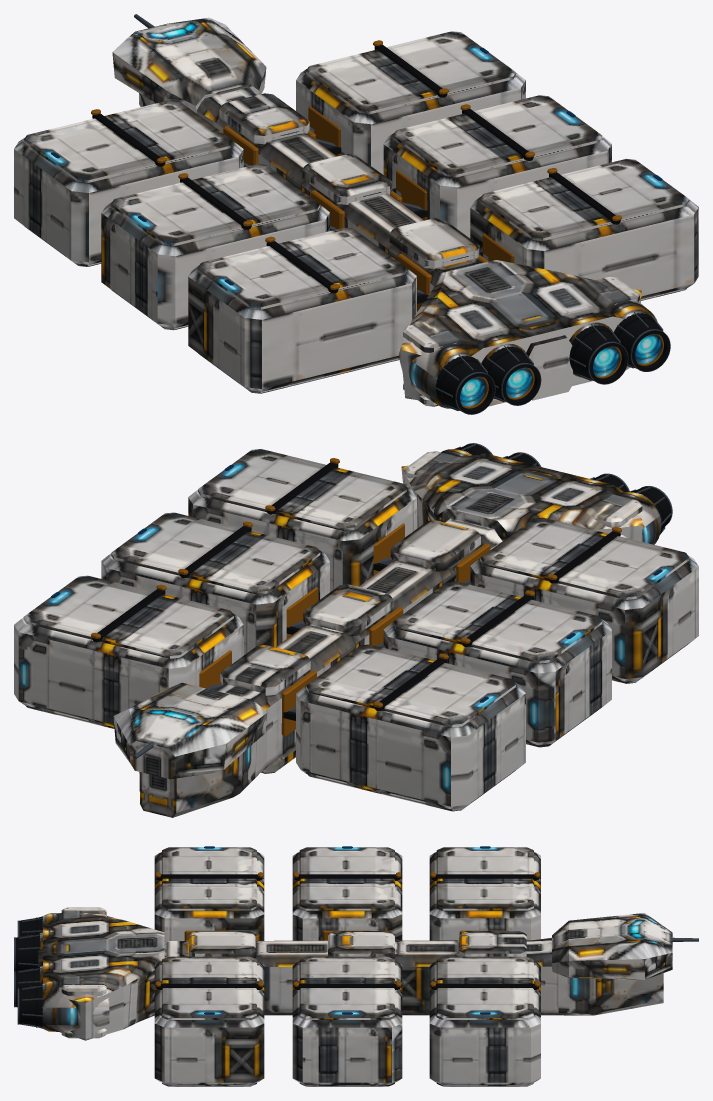
File: medium-freighter.obj
3 renders of one model, top to bottom at view 1: azimuth 30°, elevation 25°; view 2: azimuth 150°, elevation 25°; view 3: azimuth 270°, elevation 25°, orthographic. The views are drawn at different scales.
Visible parts, largest first — view 1: cargo.port.3_|_closed_container, hull_|_aft_drive_yoke, cargo.starboard.3_|_closed_container, cargo.port.2_|_closed_container, cargo.port.1_|_closed_container, bridge_|_faceted_command_cabin, cargo.port.1_|_upper_loading_panel, cargo.starboard.1_|_upper_loading_panel, cargo.starboard.3_|_upper_loading_panel, cargo.port.2_|_upper_loading_panel, cargo.starboard.2_|_upper_loading_panel, cargo.port.3_|_upper_loading_panel (+23 smaller); view 2: cargo.port.1_|_closed_container, cargo.starboard.1_|_closed_container, spine_|_cargo_transport_keel, hull_|_aft_drive_yoke, bridge_|_faceted_command_cabin, cargo.port.3_|_closed_container, cargo.port.2_|_closed_container, cargo.starboard.1_|_upper_loading_panel, cargo.port.1_|_upper_loading_panel, cargo.starboard.2_|_upper_loading_panel, cargo.port.2_|_upper_loading_panel, cargo.port.3_|_upper_loading_panel (+17 smaller); view 3: spine_|_cargo_transport_keel, hull_|_aft_drive_yoke, cargo.starboard.1_|_closed_container, cargo.starboard.2_|_closed_container, cargo.starboard.3_|_closed_container, bridge_|_faceted_command_cabin, cargo.port.1_|_upper_loading_panel, cargo.starboard.1_|_upper_loading_panel, cargo.port.2_|_upper_loading_panel, cargo.port.3_|_upper_loading_panel, cargo.starboard.2_|_upper_loading_panel, cargo.starboard.3_|_upper_loading_panel (+16 smaller).
Part boxes in pixels (x1=…): cargo.port.3_|_closed_container: x1=188, y1=265, x2=416, y2=391; hull_|_aft_drive_yoke: x1=400, y1=260, x2=641, y2=406; cargo.starboard.3_|_closed_container: x1=470, y1=196, x2=698, y2=299; cargo.port.2_|_closed_container: x1=101, y1=201, x2=329, y2=327; cargo.port.1_|_closed_container: x1=14, y1=138, x2=243, y2=264; bridge_|_faceted_command_cabin: x1=112, y1=17, x2=266, y2=113; cargo.port.1_|_upper_loading_panel: x1=23, y1=100, x2=233, y2=182; cargo.starboard.1_|_upper_loading_panel: x1=306, y1=31, x2=515, y2=114; cargo.starboard.3_|_upper_loading_panel: x1=480, y1=158, x2=689, y2=240; cargo.port.2_|_upper_loading_panel: x1=111, y1=164, x2=320, y2=246; cargo.starboard.2_|_upper_loading_panel: x1=393, y1=95, x2=602, y2=177; cargo.port.3_|_upper_loading_panel: x1=198, y1=227, x2=406, y2=309; cargo.port.1_|_closed_container: x1=296, y1=682, x2=525, y2=809; cargo.starboard.1_|_closed_container: x1=14, y1=613, x2=243, y2=726; spine_|_cargo_transport_keel: x1=139, y1=518, x2=502, y2=817; hull_|_aft_drive_yoke: x1=401, y1=453, x2=642, y2=541; bridge_|_faceted_command_cabin: x1=113, y1=682, x2=267, y2=779; cargo.port.3_|_closed_container: x1=470, y1=555, x2=698, y2=681; cargo.port.2_|_closed_container: x1=383, y1=619, x2=611, y2=745; cargo.starboard.1_|_upper_loading_panel: x1=23, y1=575, x2=233, y2=658; cargo.port.1_|_upper_loading_panel: x1=306, y1=644, x2=515, y2=727; cargo.starboard.2_|_upper_loading_panel: x1=111, y1=512, x2=320, y2=594; cargo.port.2_|_upper_loading_panel: x1=393, y1=581, x2=602, y2=663; cargo.port.3_|_upper_loading_panel: x1=480, y1=517, x2=689, y2=599; spine_|_cargo_transport_keel: x1=38, y1=937, x2=663, y2=1015; hull_|_aft_drive_yoke: x1=43, y1=912, x2=164, y2=1040; cargo.starboard.1_|_closed_container: x1=429, y1=961, x2=540, y2=1084; cargo.starboard.2_|_closed_container: x1=292, y1=961, x2=402, y2=1084; cargo.starboard.3_|_closed_container: x1=154, y1=961, x2=264, y2=1084; bridge_|_faceted_command_cabin: x1=552, y1=913, x2=672, y2=979; cargo.port.1_|_upper_loading_panel: x1=436, y1=847, x2=533, y2=910; cargo.starboard.1_|_upper_loading_panel: x1=436, y1=956, x2=533, y2=1019; cargo.port.2_|_upper_loading_panel: x1=299, y1=847, x2=394, y2=910; cargo.port.3_|_upper_loading_panel: x1=162, y1=847, x2=256, y2=910; cargo.starboard.2_|_upper_loading_panel: x1=299, y1=956, x2=394, y2=1019; cargo.starboard.3_|_upper_loading_panel: x1=162, y1=956, x2=256, y2=1019.
Bounding box in the file's own units: 11.47 × 2.56 × 18.88.
7 materials, 2 textured.
